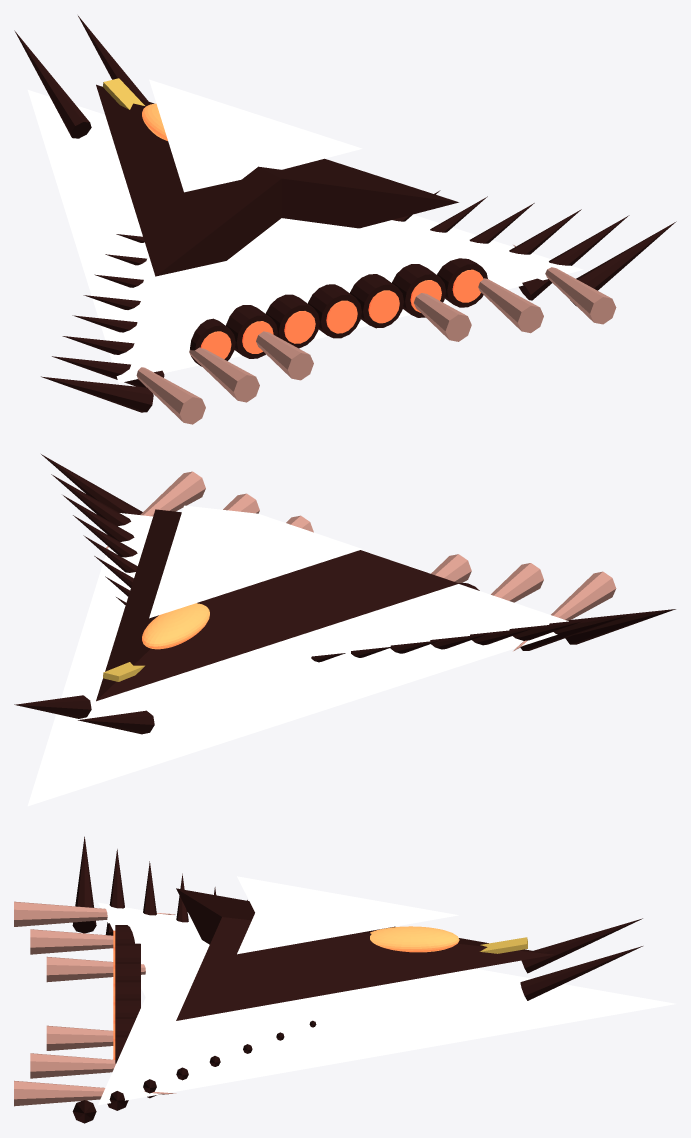
Rendered from ashkari_huge.glb.
3 renders of one model, top to bottom at view 1: azimuth 30°, elevation 25°; view 2: azimuth 150°, elevation 25°; view 3: azimuth 270°, elevation 25°, orthographic. The views are drawn at different scales.
Visible parts, largest first — view 1: ashkari_huge; view 2: ashkari_huge; view 3: ashkari_huge.
Boxes of the visible parts, x1=… form: ashkari_huge: x1=14, y1=16, x2=676, y2=424; ashkari_huge: x1=14, y1=454, x2=675, y2=806; ashkari_huge: x1=14, y1=836, x2=675, y2=1123.
Size of the model in its own units: 9.92 by 2.48 by 10.
